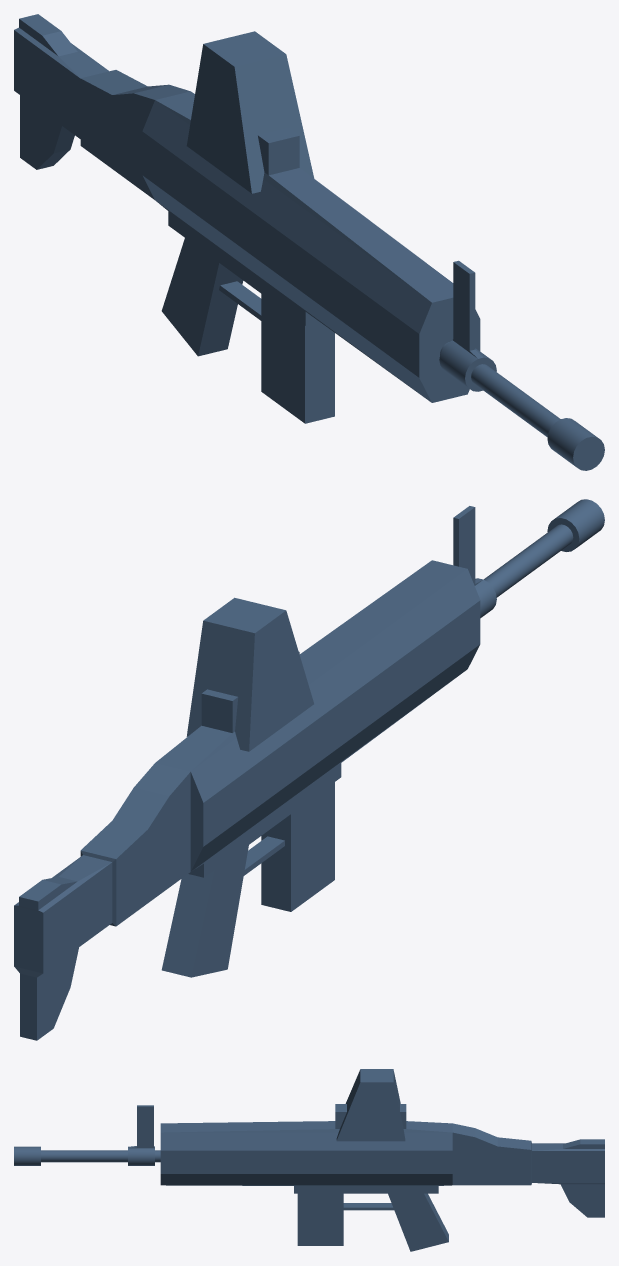
The model's file is RIflePlaceHolder.gltf.
The picture shows the model from 3 angles, top to bottom: view 1: azimuth 30°, elevation 25°; view 2: azimuth 150°, elevation 25°; view 3: azimuth 270°, elevation 25°; orthographic projection. The views are drawn at different scales.
Parts seen in each view (by area): view 1: RiflePlaceholder; view 2: RiflePlaceholder; view 3: RiflePlaceholder.
Boxes of the visible parts, <box> form: RiflePlaceholder: <box>14,14,604,470</box>; RiflePlaceholder: <box>14,499,604,1040</box>; RiflePlaceholder: <box>14,1069,604,1251</box>.
Bounding box in the file's own units: 0.0589 × 0.2952 × 0.9168.
1 material, 1 textured.
